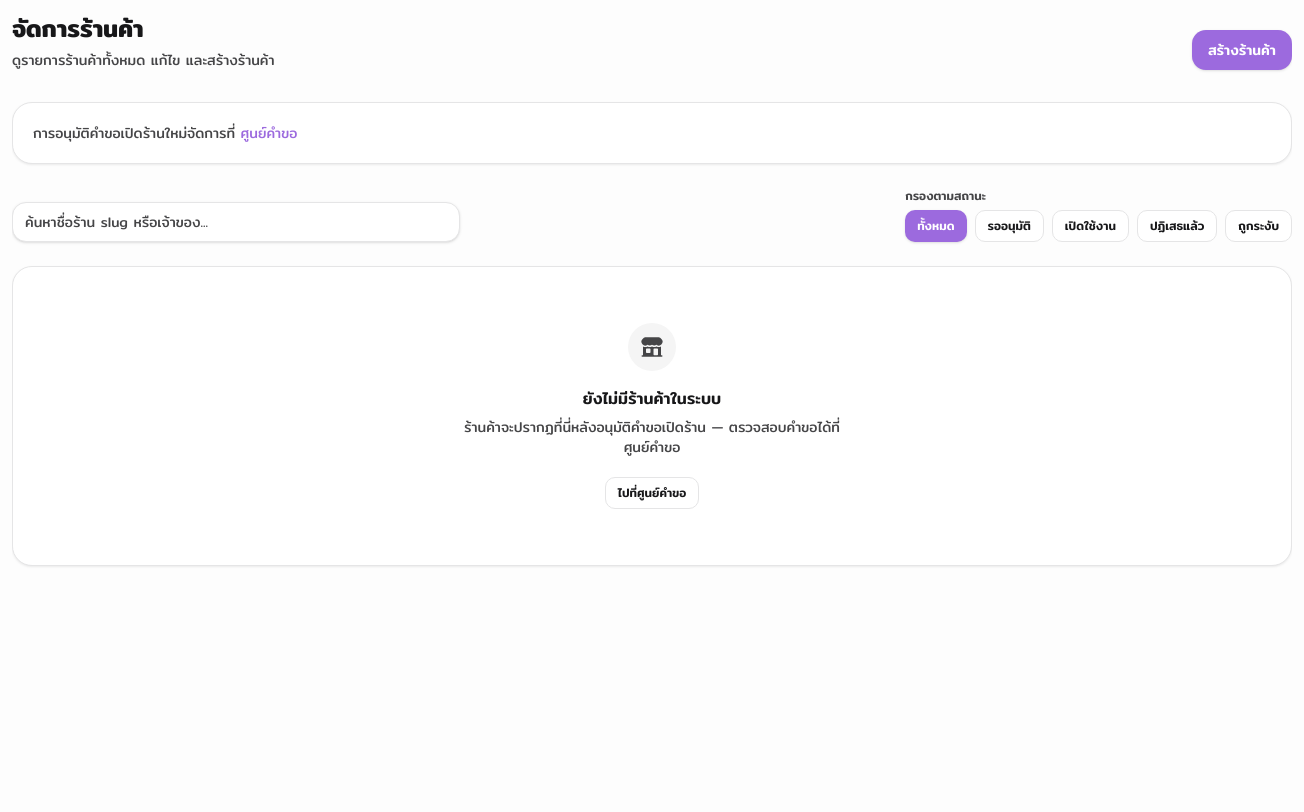
Test case: AdminStoresPage › shows filter empty state with clear action
Type "nobody" into the search field named "ค้นหาร้านค้า".
click(236, 222); type("nobody")  # box top-left (12, 202), bottom-right (460, 242)
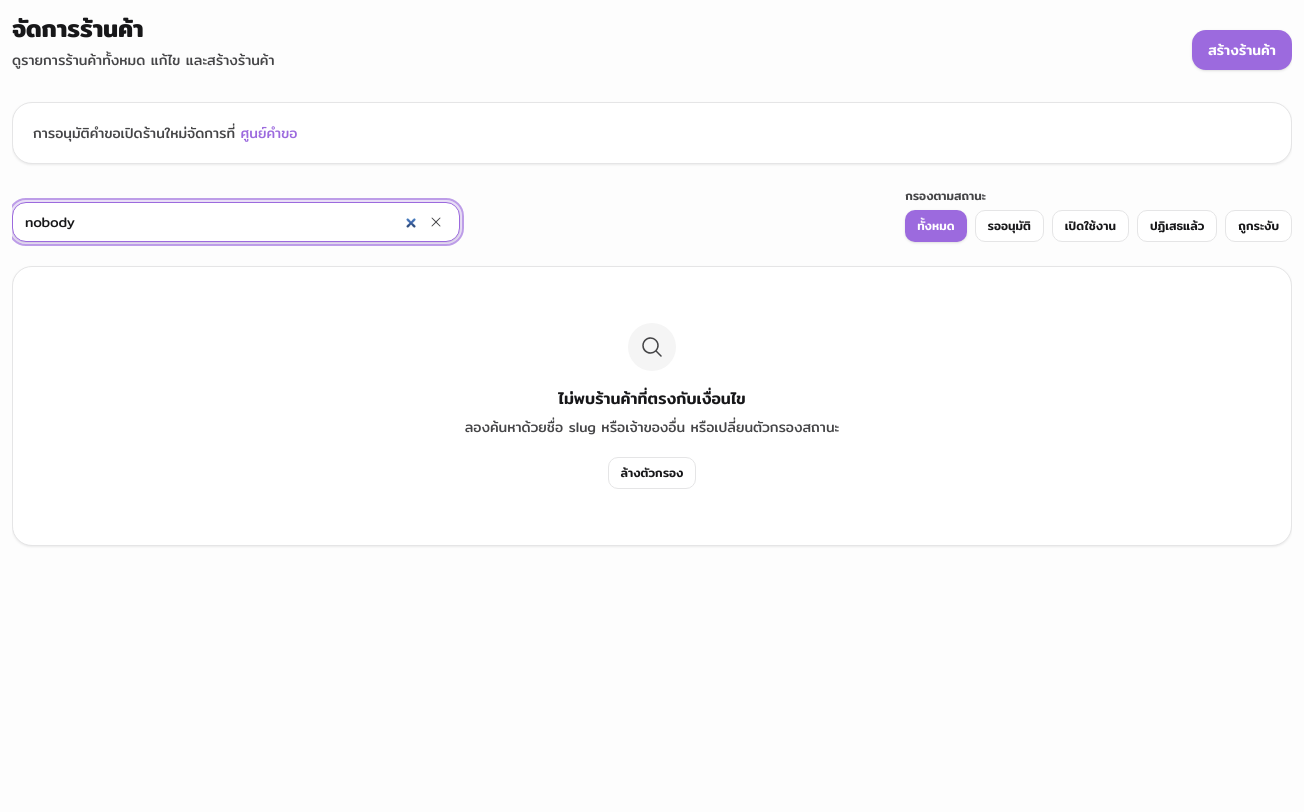
Result: the text "ไม่พบร้านค้าที่ตรงกับเงื่อนไข" is shown at top-left (558, 387), bottom-right (746, 411)
Result: the button named "ล้างช่องค้นหา" is shown at top-left (420, 206), bottom-right (452, 238)
Result: the button "ล้างตัวกรอง" is shown at top-left (608, 457), bottom-right (696, 489)
